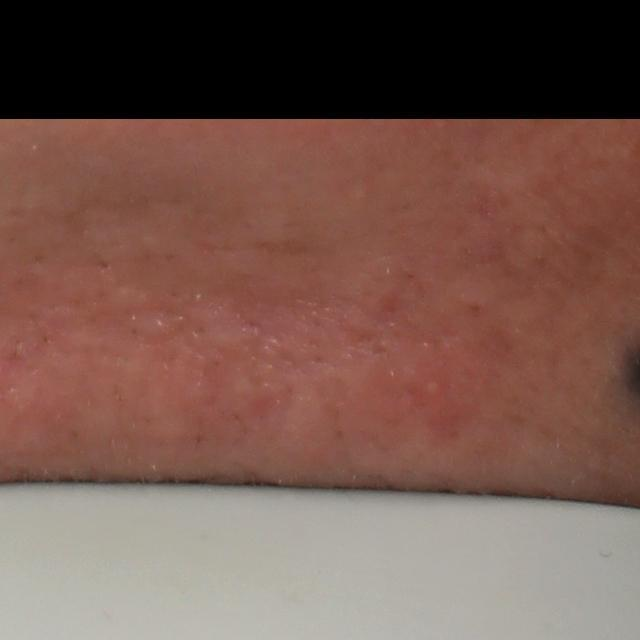hypertrophic_scar: (192, 308, 263, 360), (126, 312, 190, 342)
pustule: (418, 376, 446, 403)
